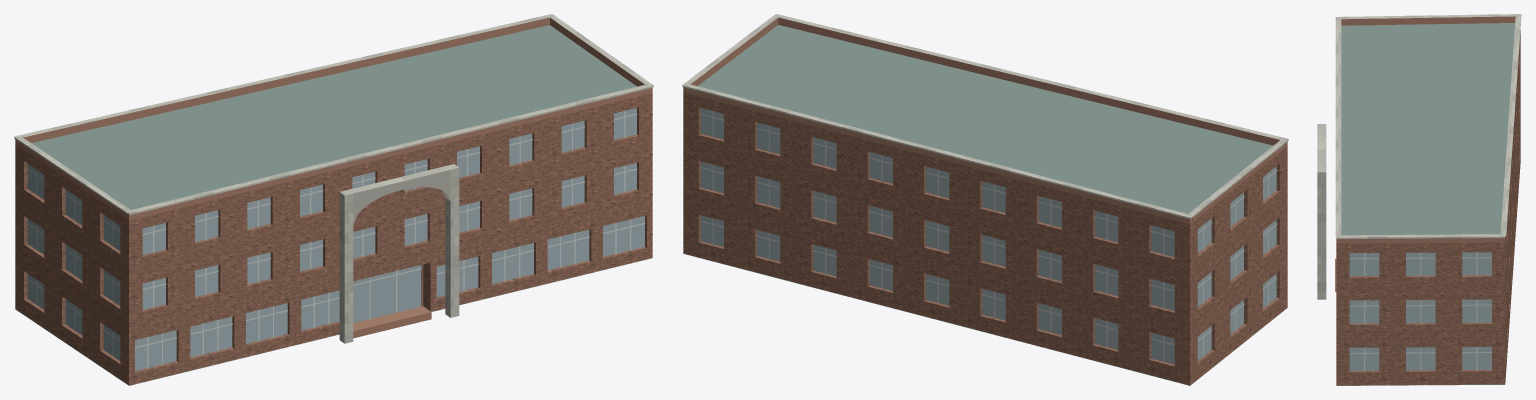
3 views of the same model, side by side, from view 1: azimuth 30°, elevation 25°; view 2: azimuth 150°, elevation 25°; view 3: azimuth 270°, elevation 25° (orthographic). The views are drawn at different scales.
Parts seen in each view (by area): view 1: pasuri__wall, pasuri__roof, pasuri__glass, pasuri__trim, pasuri__parapet, pasuri__frame, pasuri__entranceThreshold; view 2: pasuri__wall, pasuri__roof, pasuri__glass, pasuri__parapet, pasuri__trim, pasuri__frame; view 3: pasuri__roof, pasuri__wall, pasuri__glass, pasuri__trim, pasuri__parapet, pasuri__frame.
Boxes of the visible parts, x1=… form: pasuri__wall: x1=15, y1=93, x2=652, y2=385; pasuri__roof: x1=15, y1=25, x2=652, y2=385; pasuri__glass: x1=27, y1=108, x2=644, y2=370; pasuri__trim: x1=14, y1=14, x2=653, y2=343; pasuri__parapet: x1=15, y1=17, x2=652, y2=220; pasuri__frame: x1=27, y1=110, x2=645, y2=368; pasuri__entranceThreshold: x1=353, y1=306, x2=431, y2=338; pasuri__wall: x1=683, y1=92, x2=1287, y2=385; pasuri__roof: x1=683, y1=25, x2=1286, y2=385; pasuri__glass: x1=700, y1=108, x2=1276, y2=364; pasuri__parapet: x1=683, y1=17, x2=1287, y2=224; pasuri__trim: x1=682, y1=14, x2=1288, y2=219; pasuri__frame: x1=700, y1=111, x2=1277, y2=361; pasuri__roof: x1=1336, y1=23, x2=1515, y2=385; pasuri__wall: x1=1336, y1=31, x2=1520, y2=385; pasuri__glass: x1=1349, y1=252, x2=1491, y2=370; pasuri__trim: x1=1317, y1=14, x2=1521, y2=299; pasuri__parapet: x1=1336, y1=16, x2=1515, y2=243; pasuri__frame: x1=1349, y1=252, x2=1491, y2=370.
Bounding box in the file's own units: 33.46 × 10.75 × 12.9.
Materials: 8 (2 with a texture image).
